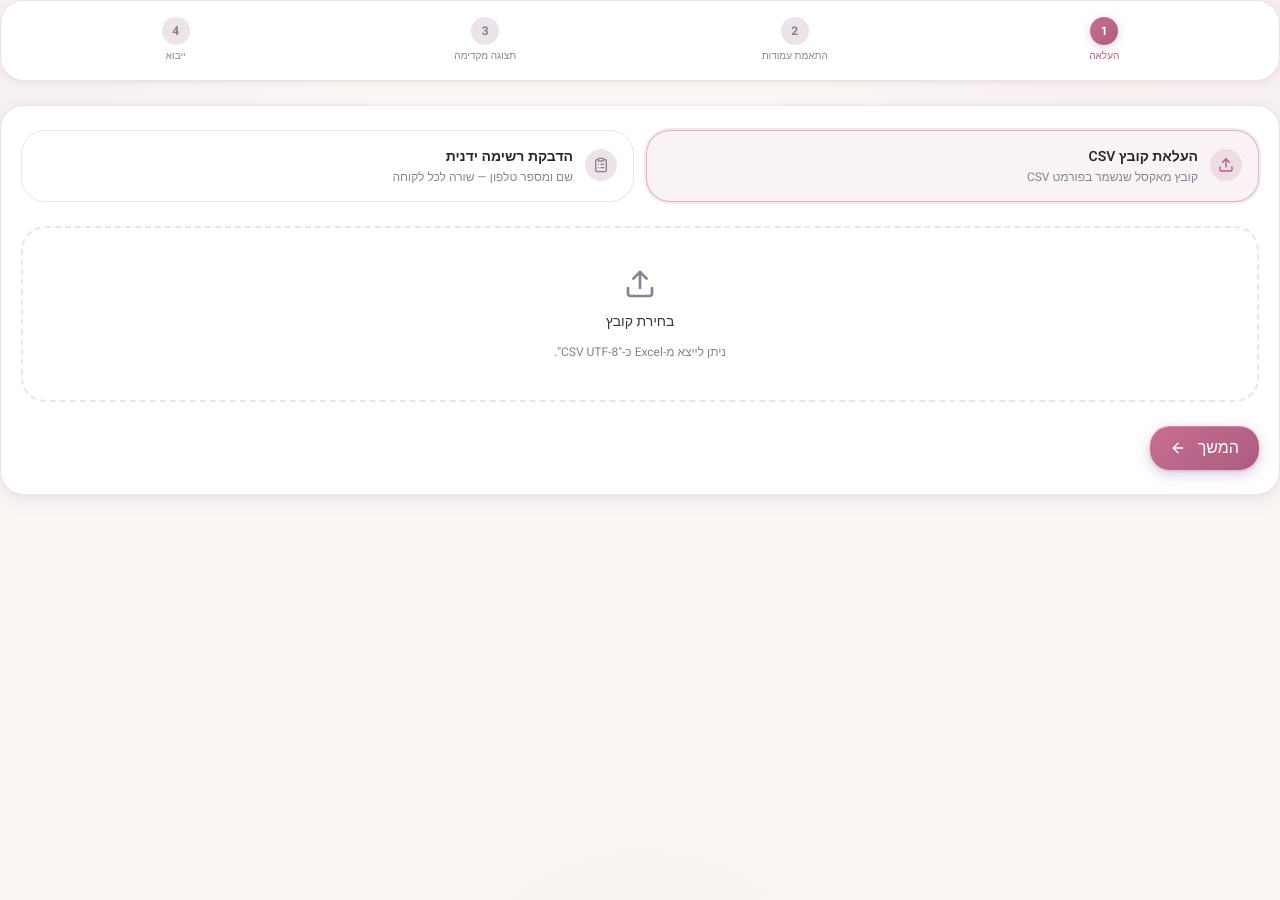
Test: ImportWizard — upload step › shows an error when continuing with no file selected
Click the button "המשך" at (1204, 448), box x1=1150 y1=426 x2=1259 y2=470
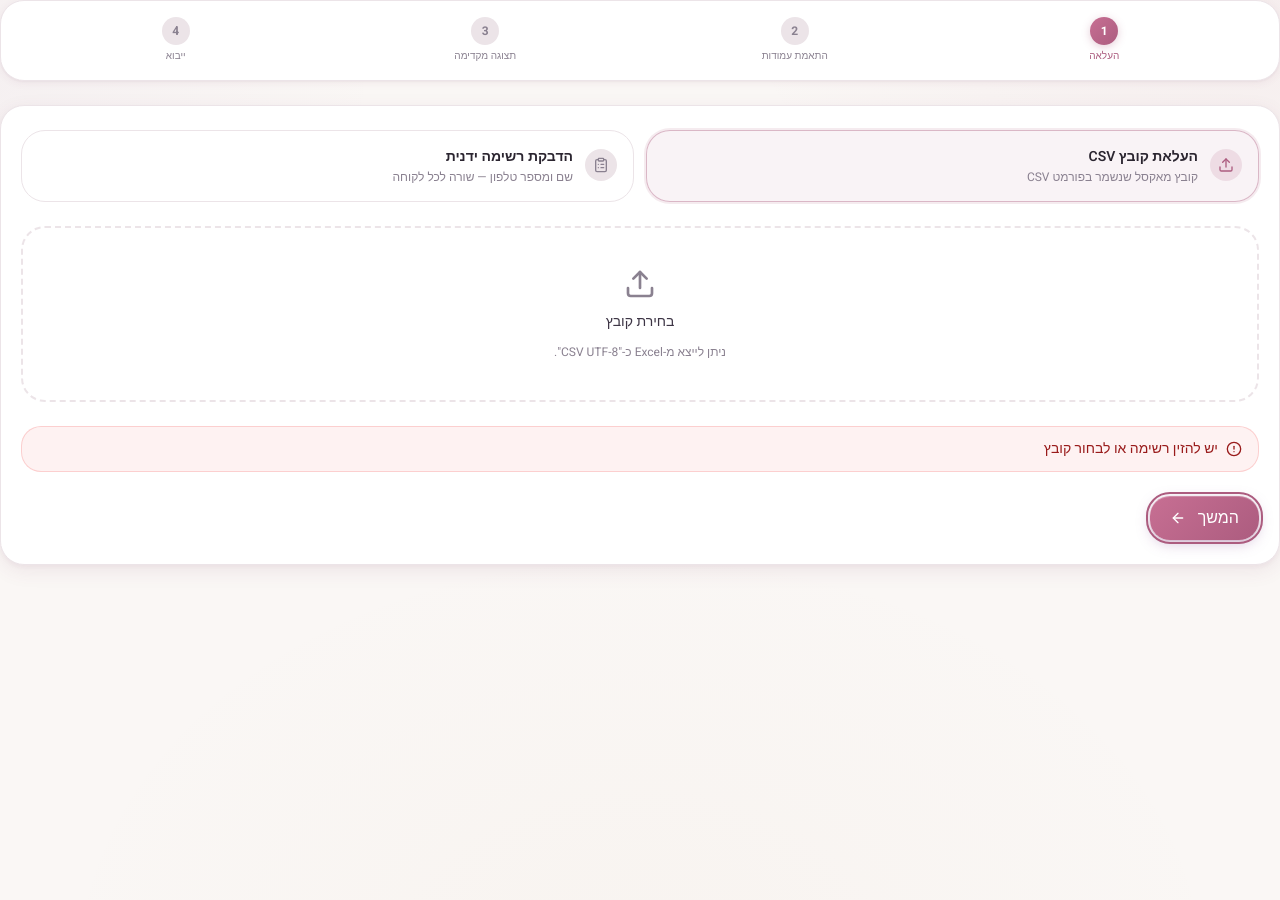
Expected: the text "יש להזין רשימה או לבחור קובץ" is shown, x1=21 y1=426 x2=1259 y2=472
